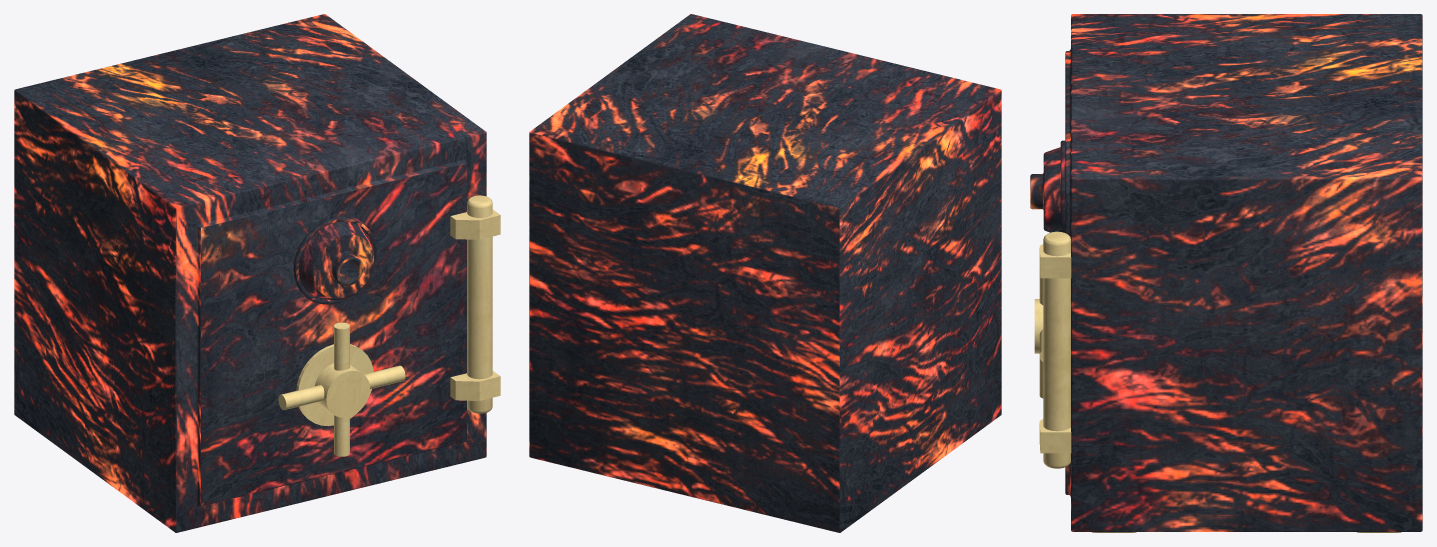
Rendered from A_PZ_MACHINE__.fbx.
The picture shows the model from 3 angles, left to right: view 1: azimuth 30°, elevation 25°; view 2: azimuth 150°, elevation 25°; view 3: azimuth 270°, elevation 25°; orthographic projection. The views are drawn at different scales.
Visible parts, largest first — view 1: PZ_MACHINE*; view 2: PZ_MACHINE*; view 3: PZ_MACHINE*.
Boxes of the visible parts, x1,y1,x2,y2 form: PZ_MACHINE*: (14, 14, 500, 532); PZ_MACHINE*: (529, 14, 1001, 532); PZ_MACHINE*: (1030, 14, 1422, 532).
Size of the model in its own units: 50 by 51.18 by 50.2.
